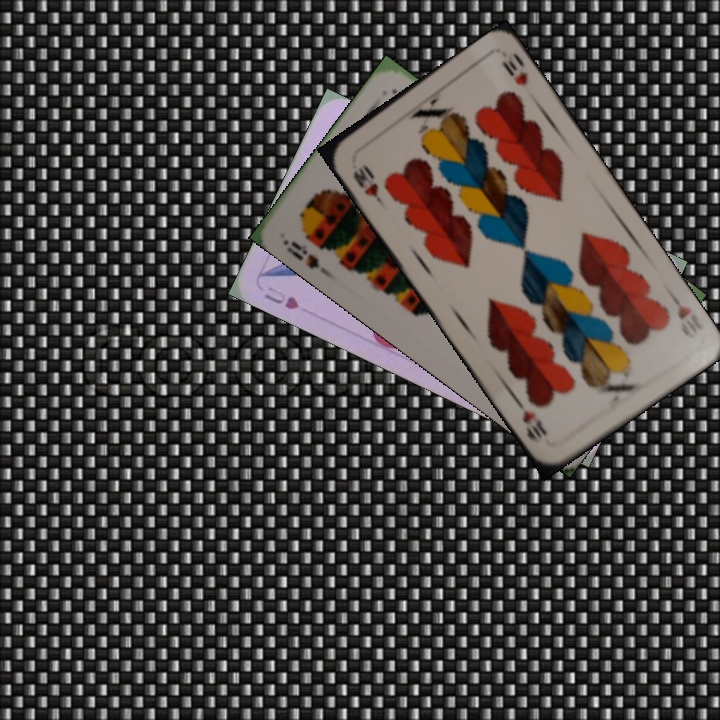H10: (349, 159, 386, 208), (665, 289, 698, 341)
HU: (260, 282, 302, 312)
S8: (287, 237, 322, 271)
